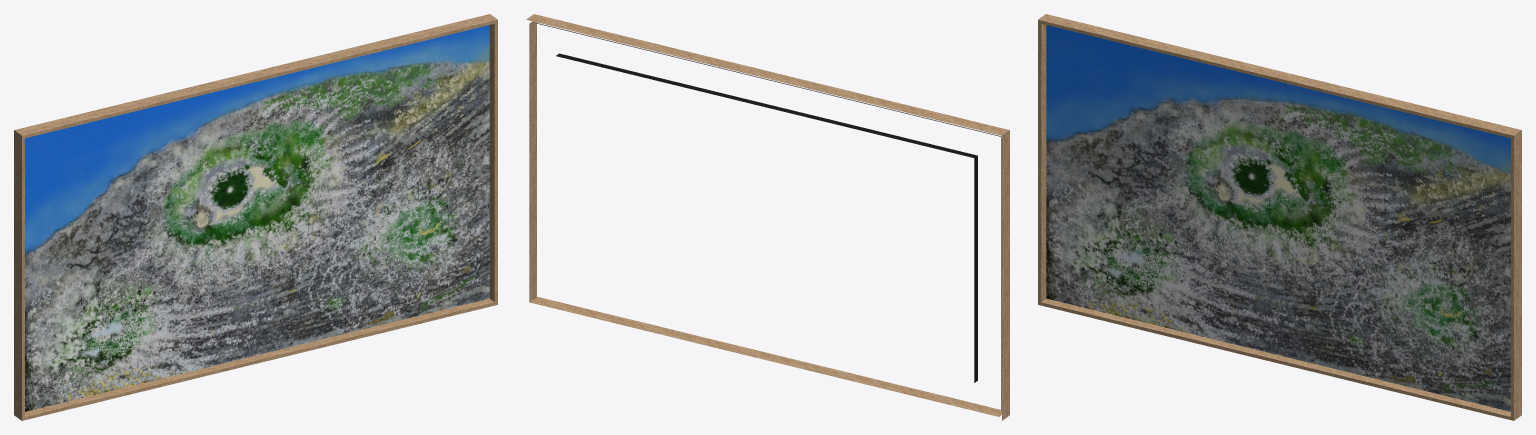
The model's file is hz066_grand_caisse-chene.glb.
3 renders of one model, left to right at view 1: azimuth 30°, elevation 25°; view 2: azimuth 150°, elevation 25°; view 3: azimuth 330°, elevation 25°, orthographic.
Visible parts, largest first — view 1: hz066_grand_caisse-chene; view 2: hz066_grand_caisse-chene; view 3: hz066_grand_caisse-chene.
Part boxes in pixels (x1,y1,x2,y2): hz066_grand_caisse-chene: (14,14,497,420); hz066_grand_caisse-chene: (526,14,1009,420); hz066_grand_caisse-chene: (1038,14,1521,420).
Bounding box in the file's own units: 1.23 × 0.703 × 0.035.
4 materials, 2 textured.
